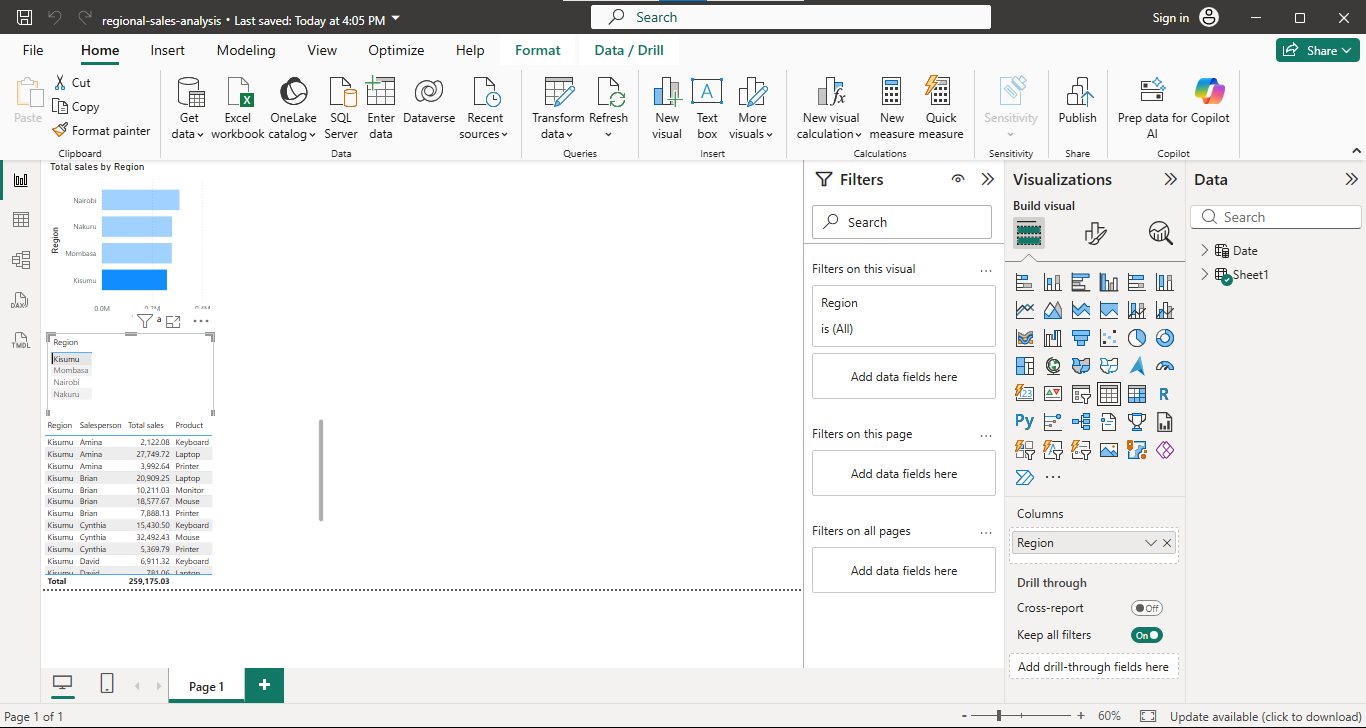

The page's visual inventory and layout, read from the dashboard file:
{"tool":"powerbi","page":{"name":"Page 1","canvas":[1280,720],"ordinal":0},"visuals":[{"type":"clusteredBarChart","fields":{"Category":["Sheet1.Region"],"Y":["Sheet1.Total sales"]},"box":[10,0,280,280],"z":0},{"type":"tableEx","fields":{"Values":["Sheet1.Region"]},"box":[10,290,280,280],"z":1},{"type":"tableEx","fields":{"Values":["Sheet1.Region","Sheet1.Salesperson","Sheet1.Total sales","Sheet1.Product"]},"box":[0,430,480.4,290.6],"z":2}]}

Visuals, with their boxes on the page's 1280x720 design canvas (x1, y1, x2, y2). These are canvas units, not pixel positions in the 1366x728 screenshot, which may show the page scaled, cropped or inside an application window:
clusteredBarChart - Sheet1.Region x Sheet1.Total sales: [10,0,290,280]
tableEx - Sheet1.Region: [10,290,290,570]
tableEx - Sheet1.Region x Sheet1.Salesperson: [0,430,480,721]
